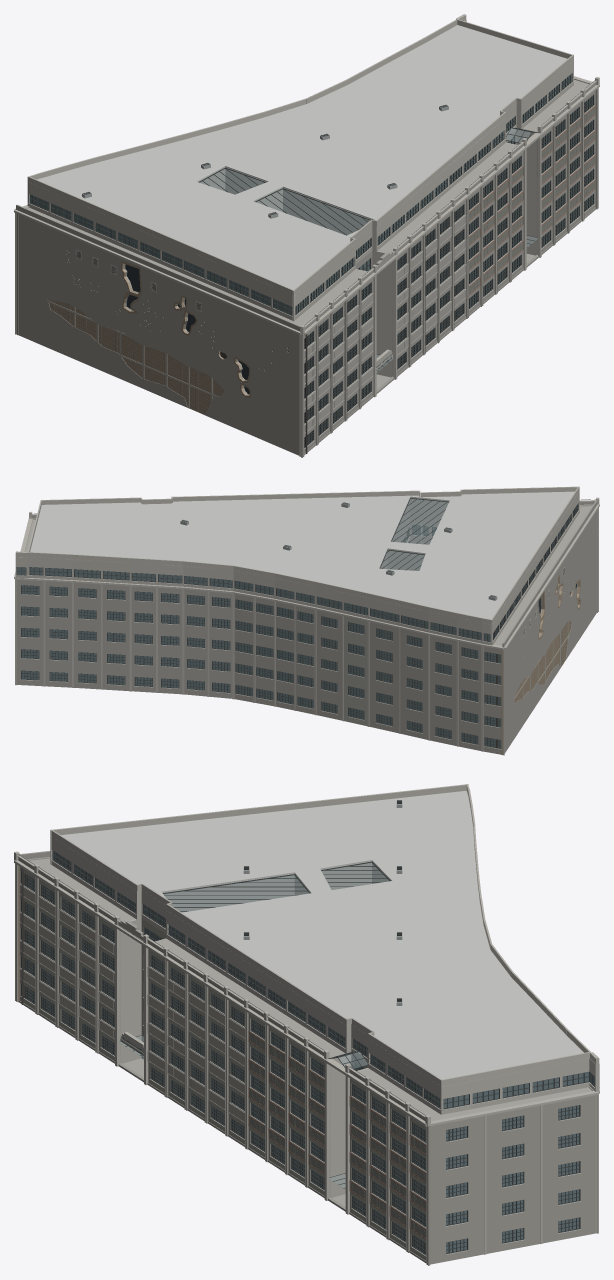
The model's file is jingan-sihang-warehouse-web.glb.
3 renders of one model, top to bottom at view 1: azimuth 30°, elevation 25°; view 2: azimuth 150°, elevation 25°; view 3: azimuth 270°, elevation 25°, orthographic. The views are drawn at different scales.
Size of the model in its own units: 107 by 27.7 by 84.13.
